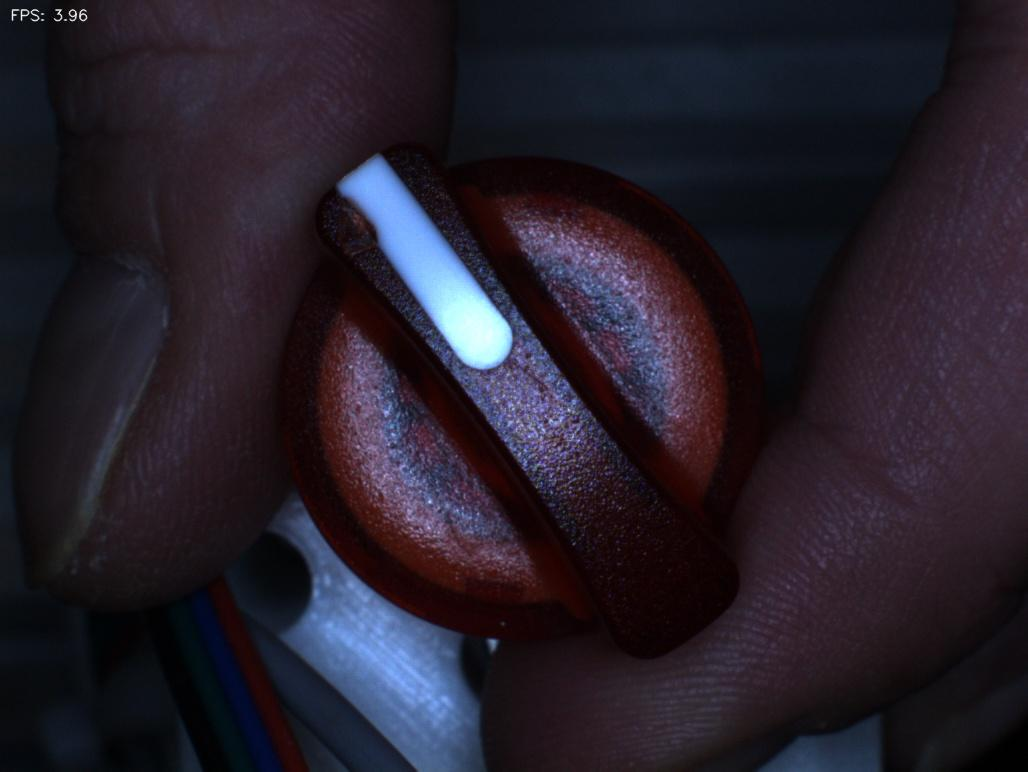Choc: (302, 170, 387, 271)
